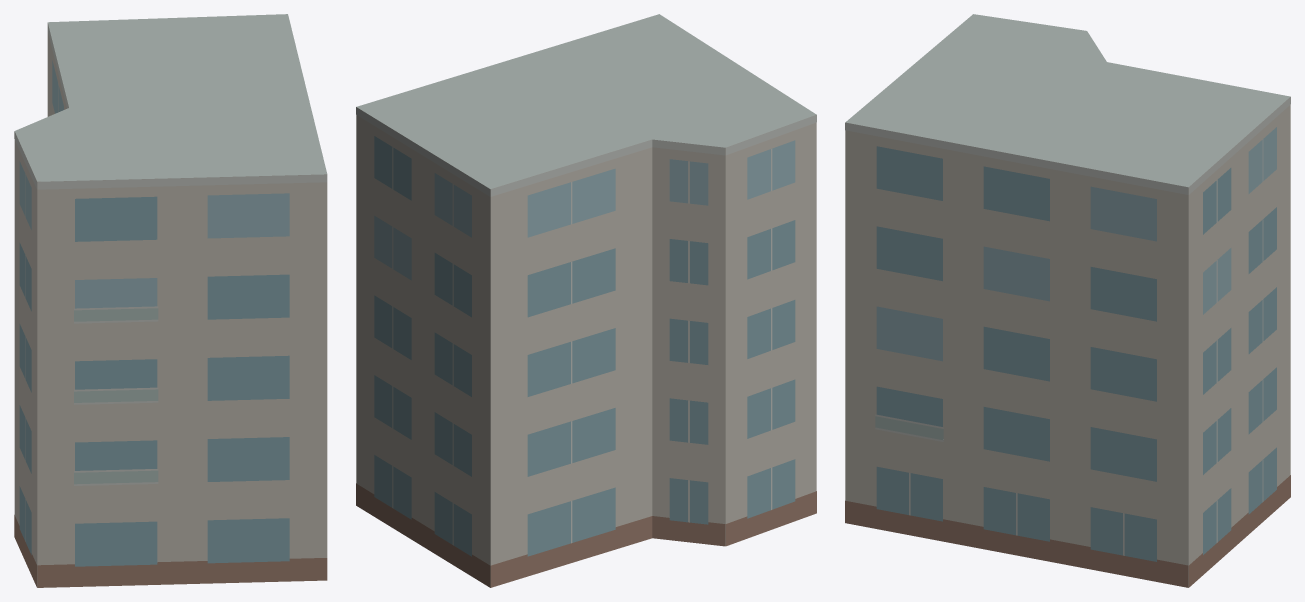
The model's file is survey-upis-32531468.glb.
The picture shows the model from 3 angles, left to right: view 1: azimuth 30°, elevation 25°; view 2: azimuth 150°, elevation 25°; view 3: azimuth 270°, elevation 25°; orthographic projection.
Visible parts, largest first — view 1: survey-upis-32531468.tmp; view 2: survey-upis-32531468.tmp; view 3: survey-upis-32531468.tmp.
Part boxes in pixels (bbox=[...]): survey-upis-32531468.tmp: bbox=[14, 14, 327, 587]; survey-upis-32531468.tmp: bbox=[356, 14, 816, 587]; survey-upis-32531468.tmp: bbox=[845, 14, 1290, 587].
Bounding box in the file's own units: 11.61 × 12.5 × 12.61.
